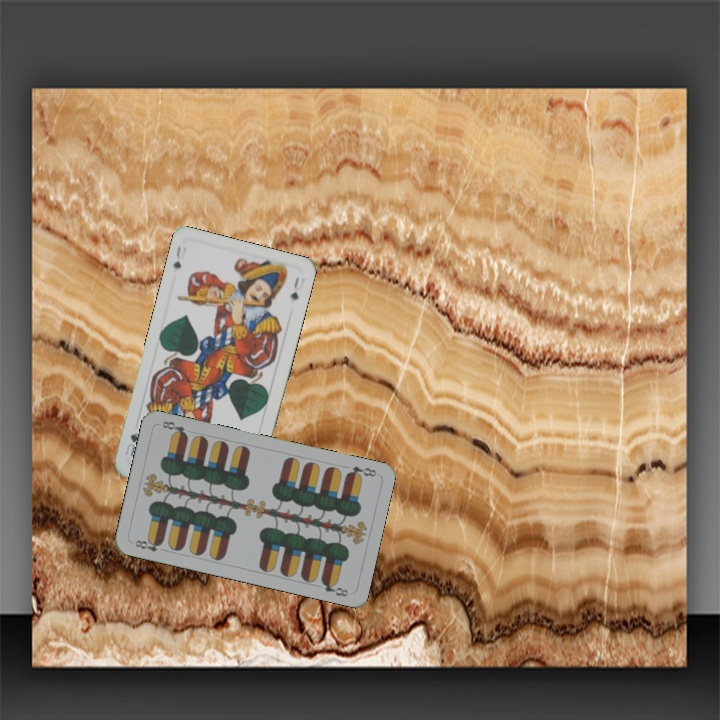E8: (130, 535, 169, 554), (343, 462, 379, 481)
GU: (169, 241, 184, 271)
